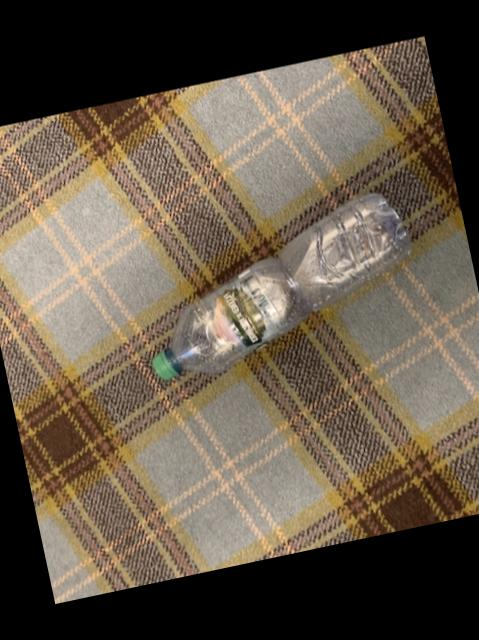plastic: (150, 192, 407, 379)
